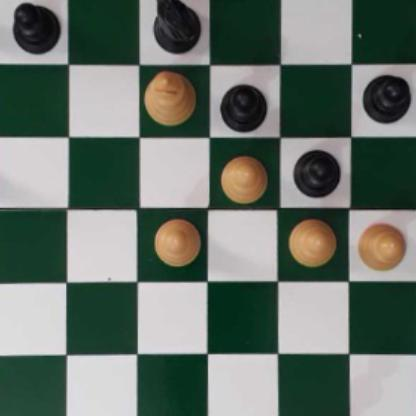black-knight: (147, 0, 199, 51)
black-pawn: (215, 78, 266, 132), (11, 1, 60, 54), (362, 69, 411, 121), (293, 145, 341, 198)
white-bishop: (142, 66, 196, 127)
white-pawn: (356, 218, 408, 272), (215, 154, 269, 204), (286, 215, 335, 268), (151, 217, 201, 265)
